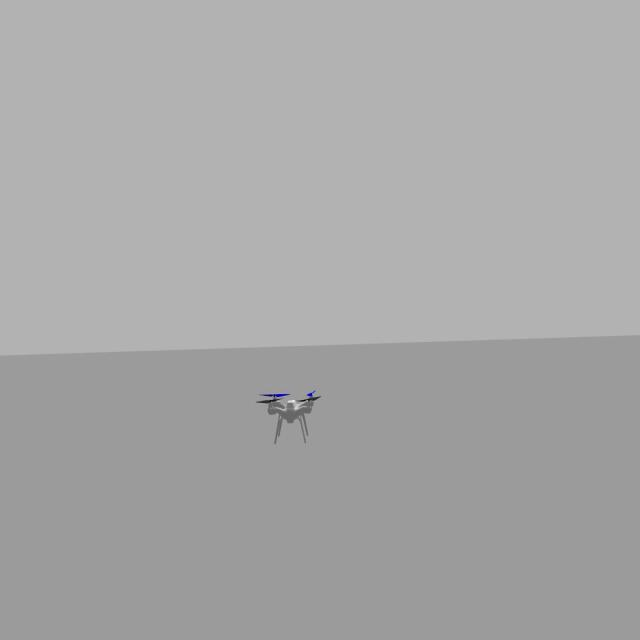Drone: (256, 381, 321, 448)
